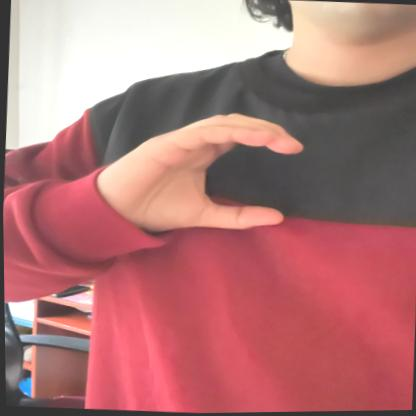C: (94, 102, 308, 256)
